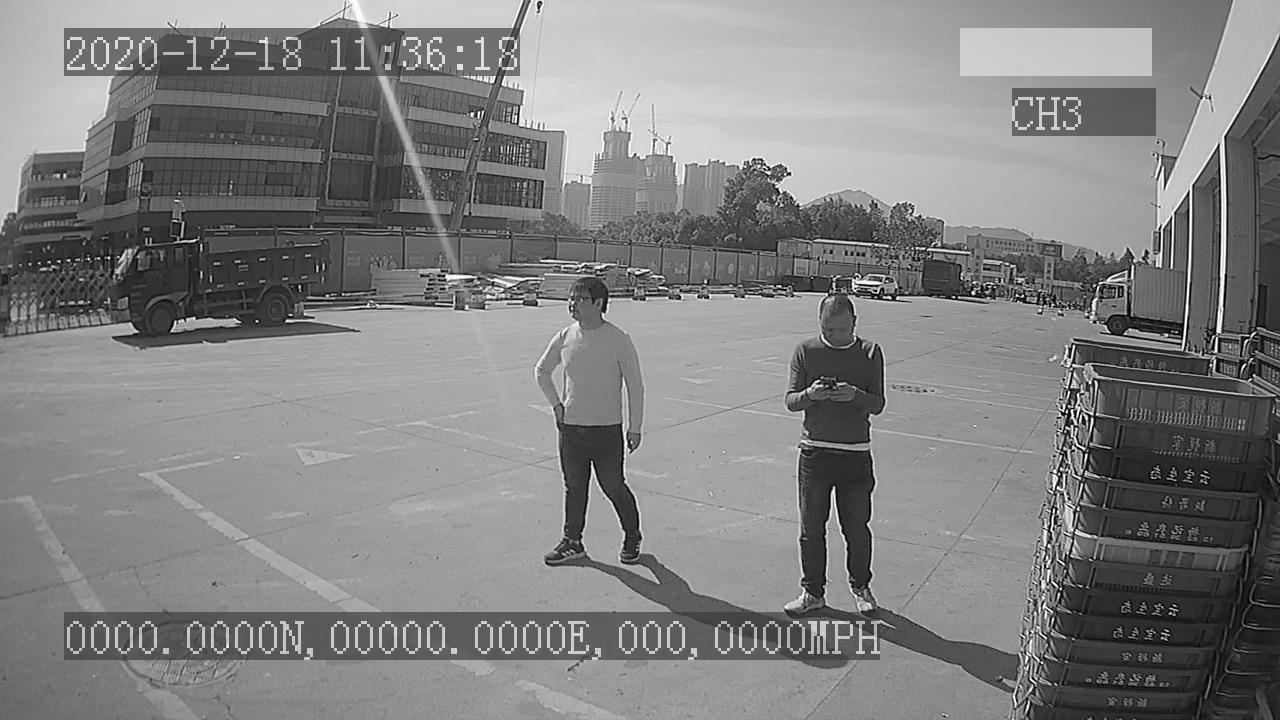person: (782, 290, 891, 616), (536, 277, 654, 568)
